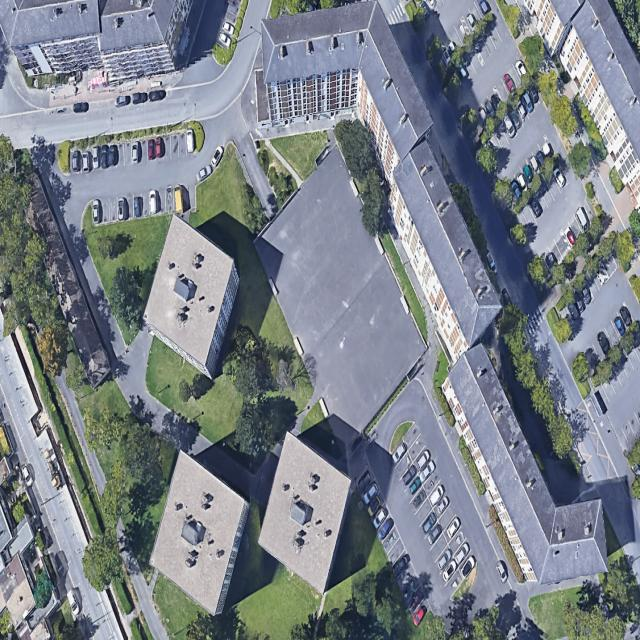immeuble: (424, 327, 628, 602), (249, 0, 436, 187), (369, 140, 514, 364), (527, 0, 640, 205), (132, 215, 252, 379), (141, 450, 258, 617), (248, 432, 363, 593), (0, 0, 192, 82)
